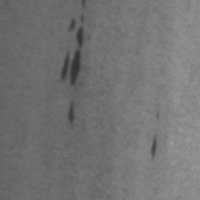inclusion: (59, 0, 88, 87), (145, 132, 161, 162), (63, 98, 78, 129)
